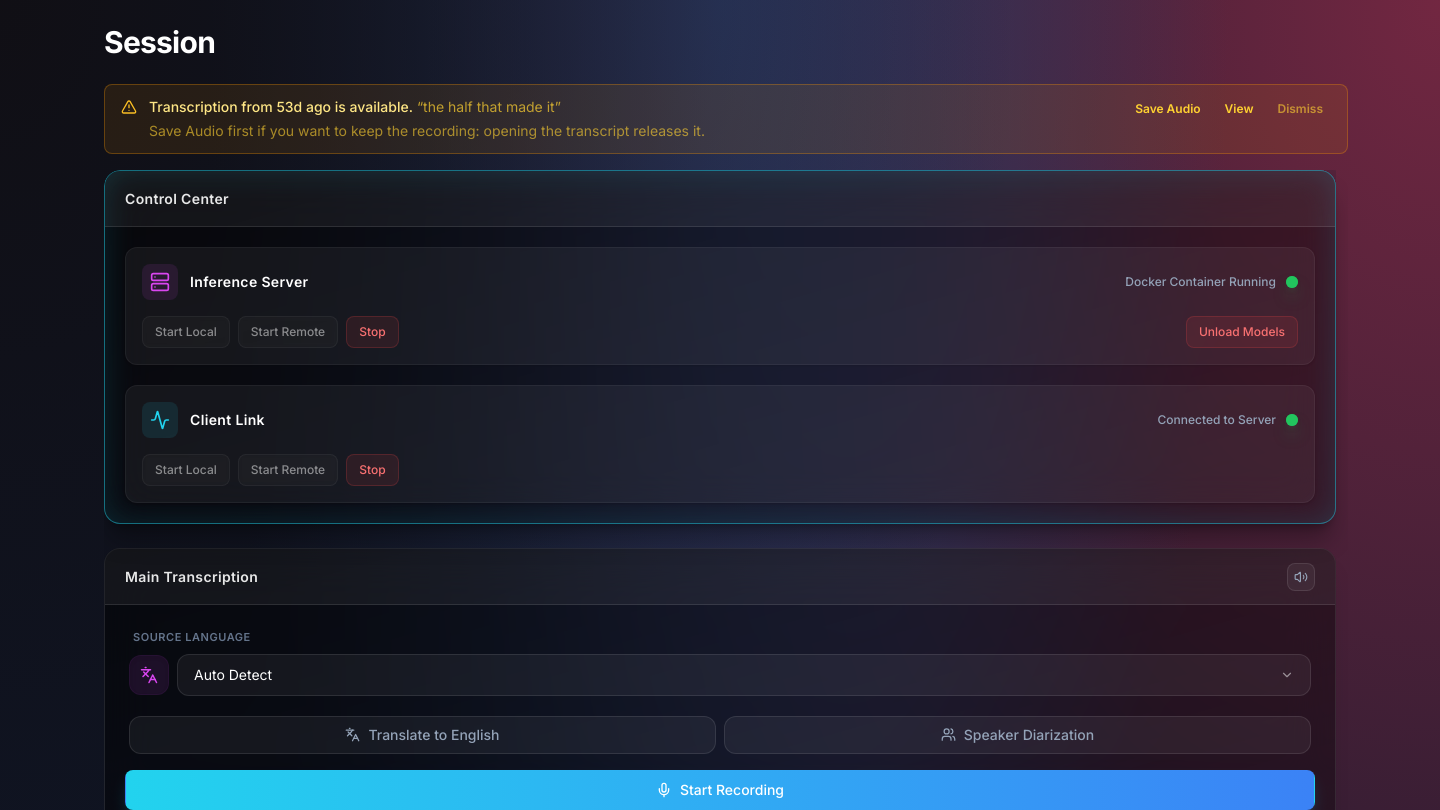
Test: SessionView - recovery banner refresh › drops a stale re-check that answers after a newer one
The width and height of the screenshot is (1440, 810).
Check: the text "“the half that made it”" is shown, box [417,98,561,115]
Step 1. Click the button "Dismiss" → {"x": 1300, "y": 109}, box [1270,97,1331,121]
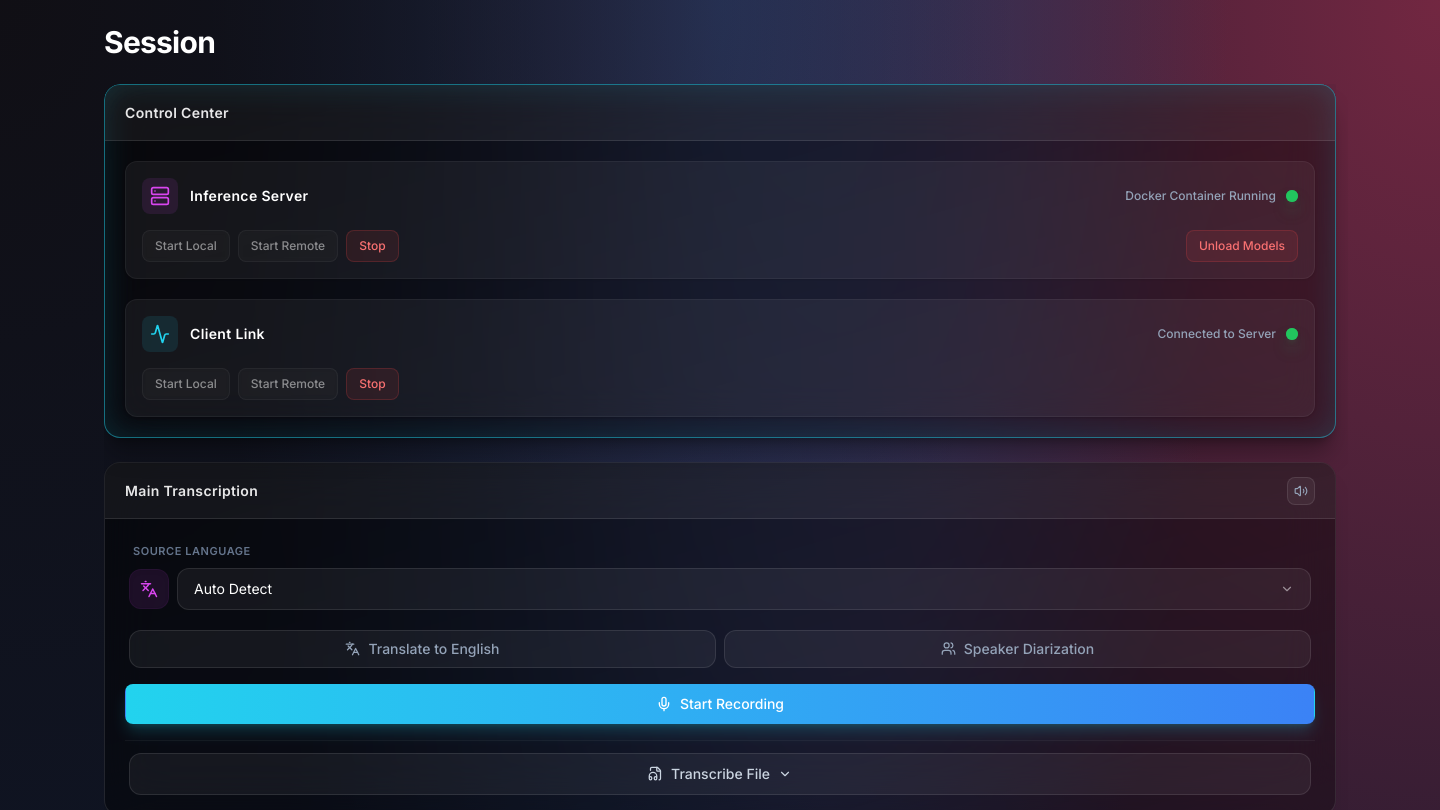
Check: the text "the half that made it" is gone
